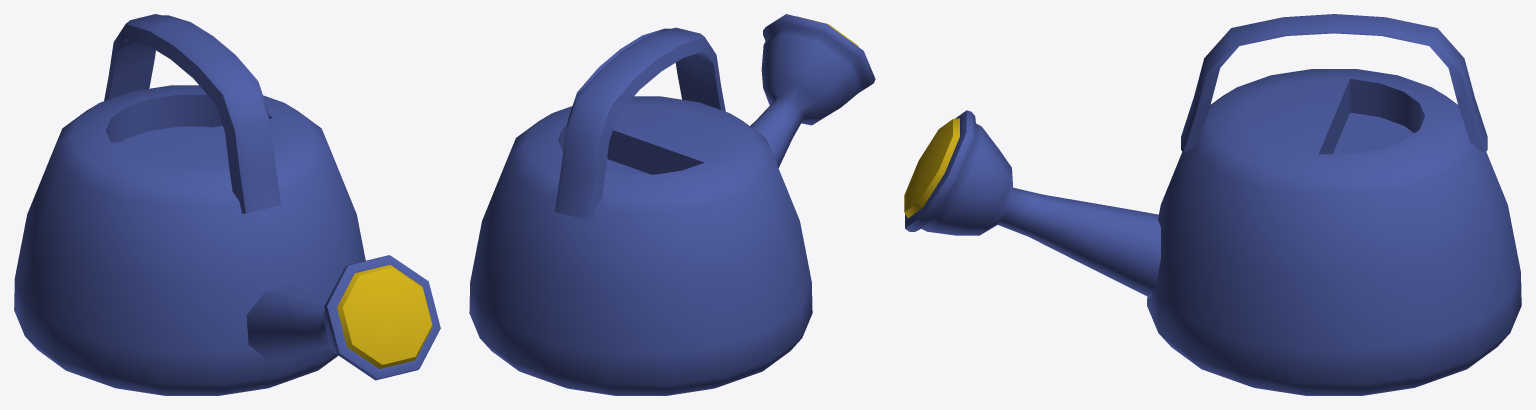
Rendered from watering_can.fbx.
3 renders of one model, left to right at view 1: azimuth 30°, elevation 25°; view 2: azimuth 150°, elevation 25°; view 3: azimuth 270°, elevation 25°, orthographic. The views are drawn at different scales.
Parts seen in each view (by area): view 1: ST_watering_can; view 2: ST_watering_can; view 3: ST_watering_can.
Boxes of the visible parts, bbox=[...] form: ST_watering_can: bbox=[14, 14, 440, 395]; ST_watering_can: bbox=[469, 14, 875, 395]; ST_watering_can: bbox=[904, 14, 1521, 395].
Size of the model in its own units: 42.81 by 39.49 by 71.63.
